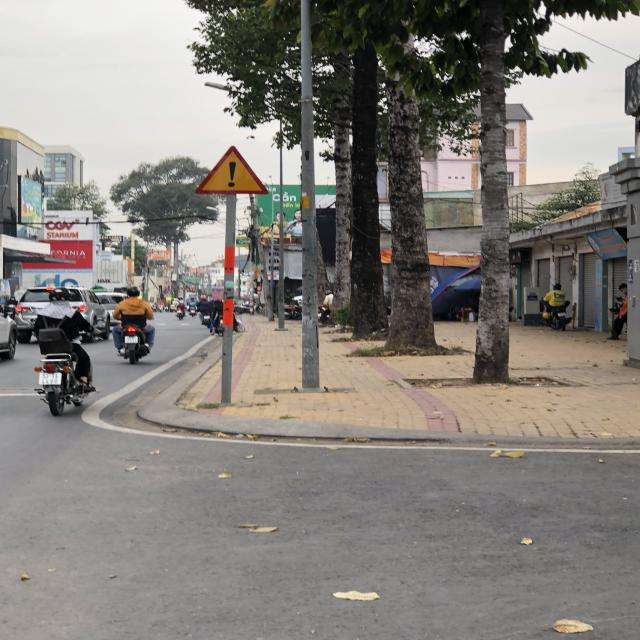Bien bao nguy hiem khac: (191, 143, 271, 198)
